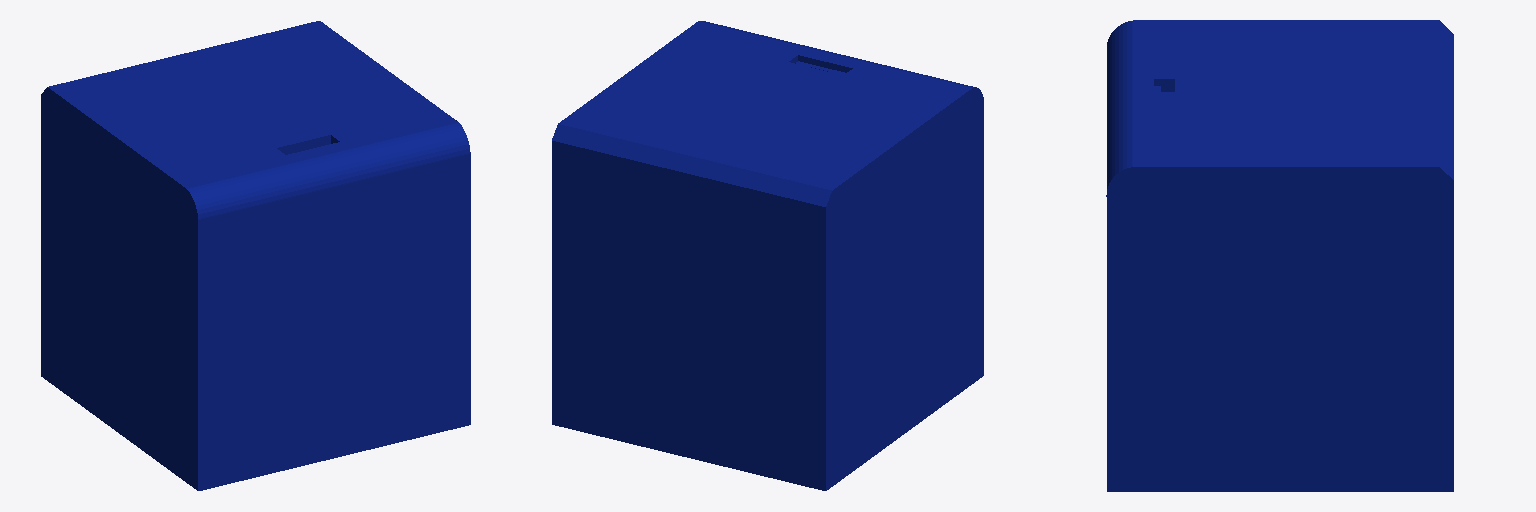
robot.urdf — block:
<robot name="block">
  <link name="block_base_link">
    <contact>
      <lateral_friction value="0.2"/>
      <rolling_friction value="0.001"/>
      <contact_cfm value="0.0"/>
      <contact_erp value="1.0"/>
    </contact>
    <inertial>
      <origin rpy="0 0 0" xyz="0 0 0"/>
      <mass value="0.05"/>
      <inertia ixx="0" ixy="0" ixz="0" iyy="0" iyz="0" izz="0"/>
    </inertial>
    <visual>
      <origin rpy="0 0 0" xyz="0 0 0"/>
      <geometry>
        <mesh filename="3.obj" scale="1 1 1"/>
      </geometry>
      <material name="tray_material">
        <color rgba="0.1 0.2 0.6 1"/>
      </material>
    </visual>
    <collision>
      <origin rpy="0 0 0" xyz="0 0 0"/>
      <geometry>
        <mesh filename="3.obj" scale="1 1 1"/>
      </geometry>
    </collision>
  </link>
</robot>

--- What the picture shows (computed from the rendered views, not written in the file) ---
The picture shows the robot from 3 angles, left to right: view 1: azimuth 30°, elevation 25°; view 2: azimuth 150°, elevation 25°; view 3: azimuth 270°, elevation 25°; orthographic projection.
Robot: block — 1 links, 0 joints (none); root link block_base_link; default pose: all joints at 0.
Links seen in each view (by area): view 1: block_base_link; view 2: block_base_link; view 3: block_base_link.
Boxes of the visible links, x1,y1,x2,y2 form: block_base_link: (41,21,470,490); block_base_link: (552,21,983,490); block_base_link: (1106,20,1453,491).
Bounding box of the posed robot: 0.0387 × 0.0388 × 0.04 m (x, y, z).
1 mesh visuals loaded from 1 distinct referenced files (1 OBJ).